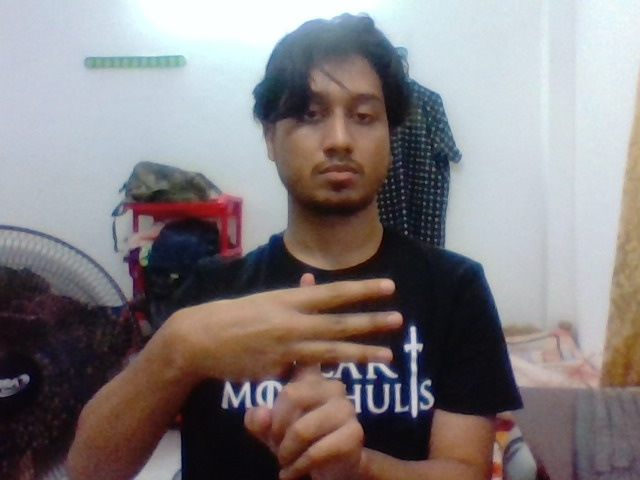E: (249, 255, 415, 461)
